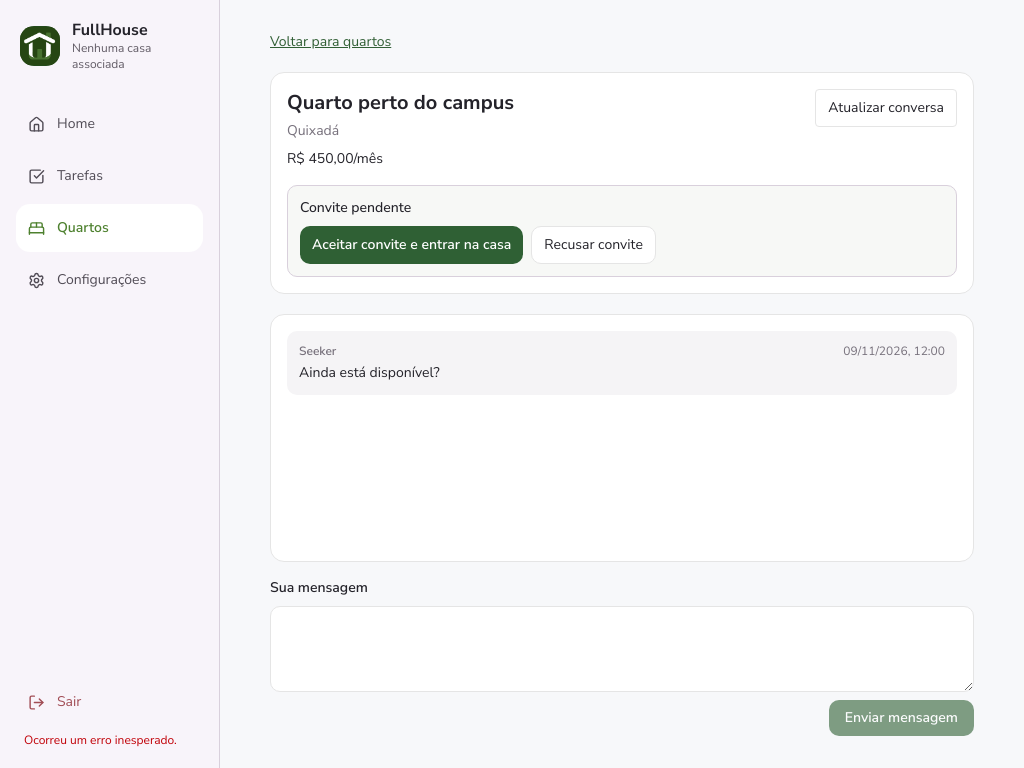
RoomNegotiationPage › handles an invited user's ACEITO decision
Step 1. Click the button "Aceitar convite e entrar na casa" → point(412, 245), box left=300, top=226, right=523, bottom=264
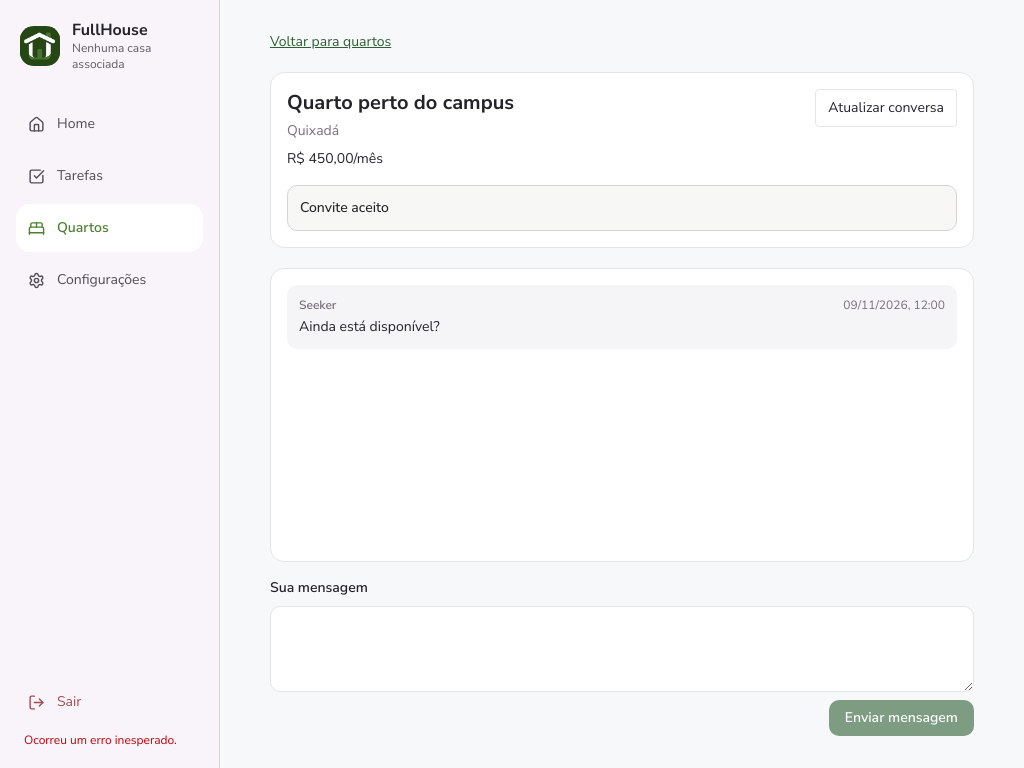
Expected: the text "Convite aceito" is shown, left=300, top=198, right=389, bottom=217
